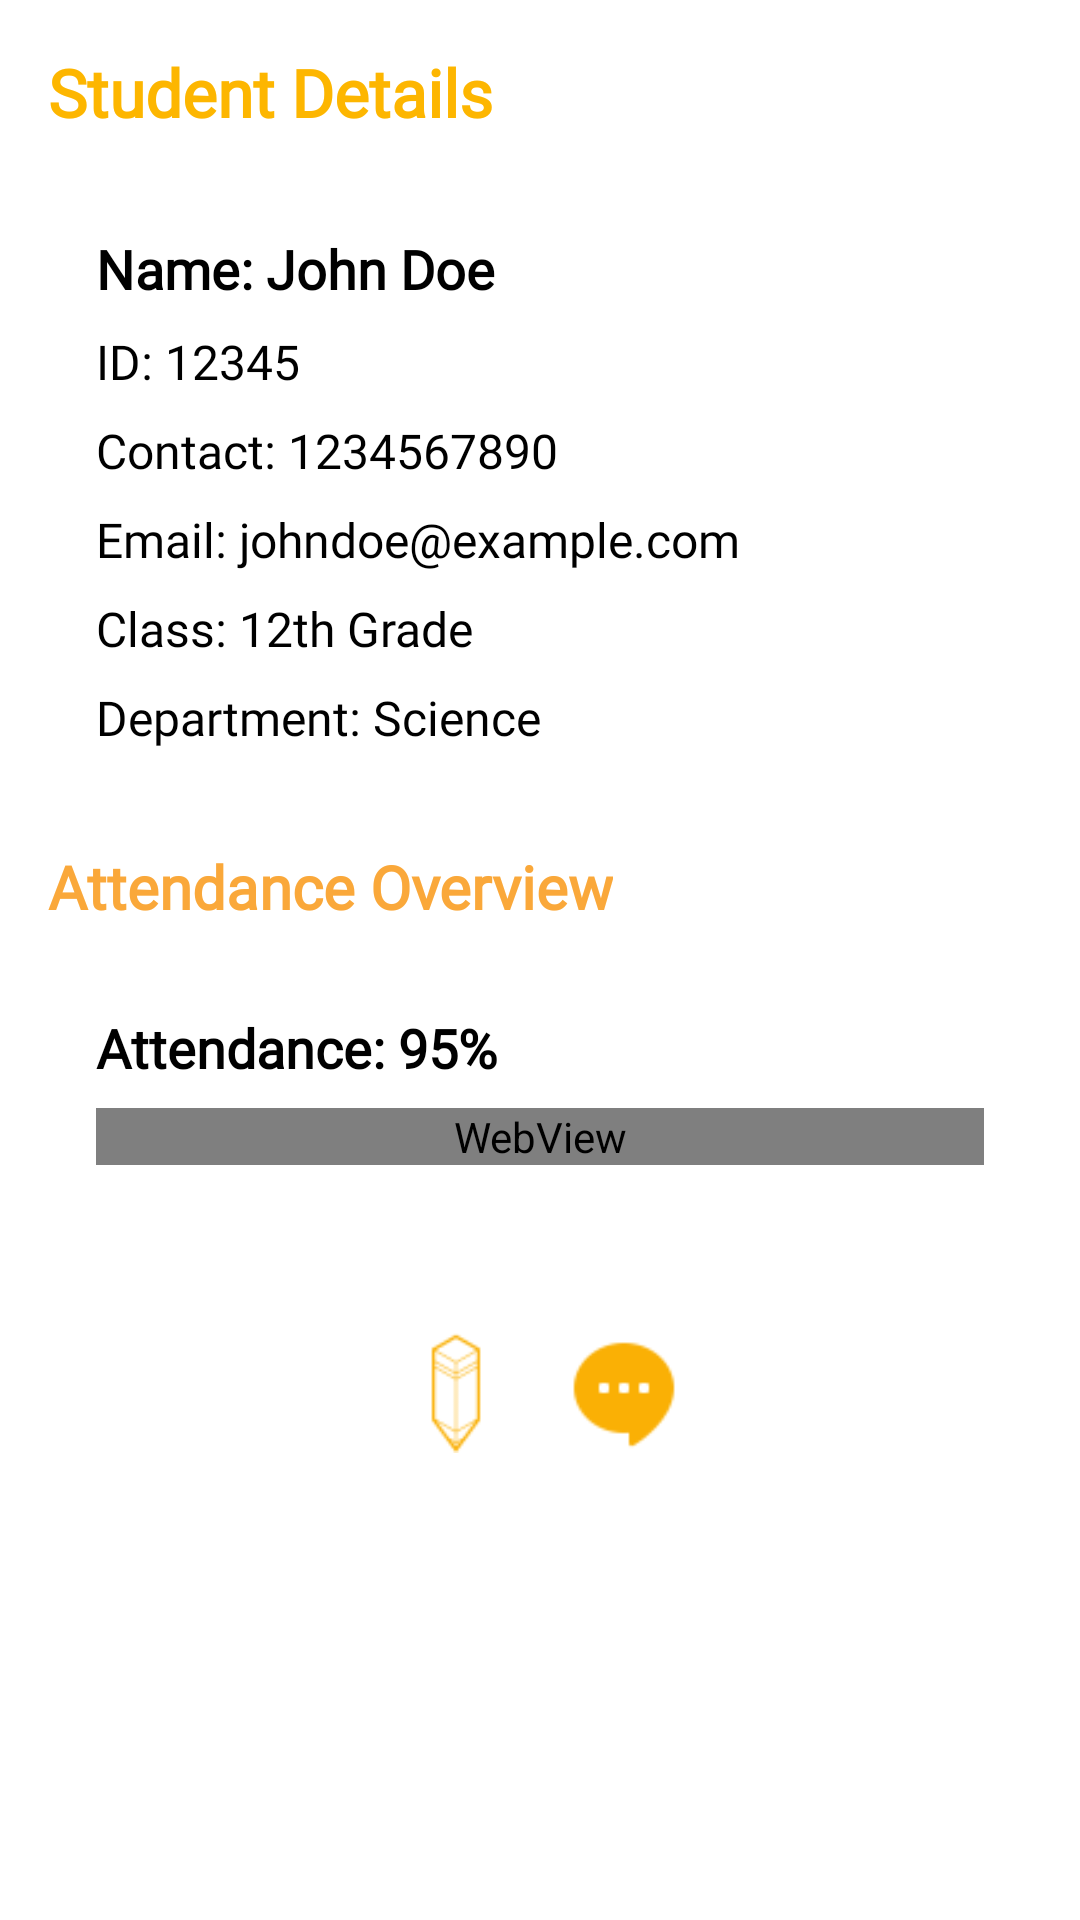

Screen size 1080 x 1920. Icon name, then its box in pixels as (x1, y1, x2, y2):
edit: (431, 1334, 481, 1453)
message: (573, 1342, 675, 1447)
